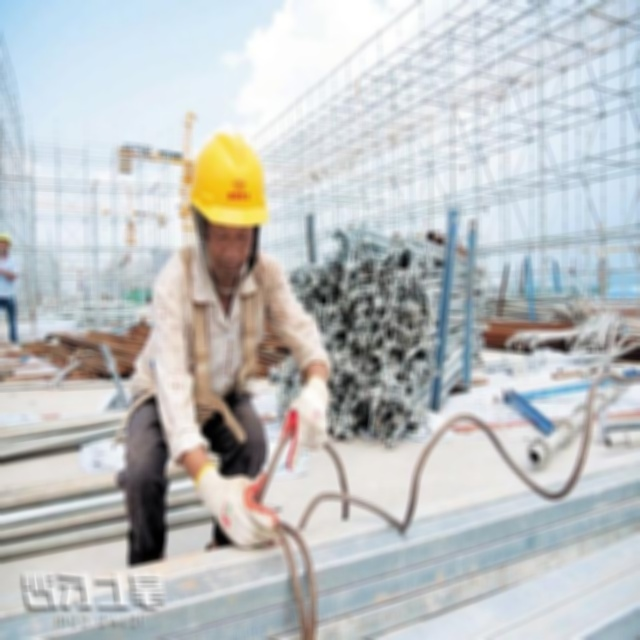Con_Casco: (191, 128, 265, 279)
